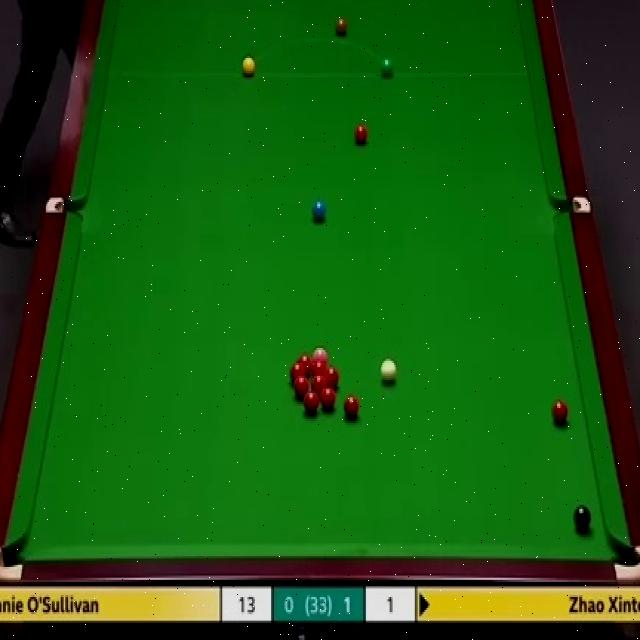black-ball: (573, 504, 591, 531)
blue-ball: (310, 198, 326, 223)
brown-ball: (335, 18, 349, 39)
green-ball: (379, 57, 395, 79)
pink-ball: (313, 347, 328, 359)
red-ball: (318, 385, 335, 411), (352, 124, 370, 148), (298, 356, 314, 378), (344, 396, 359, 419), (552, 402, 567, 425), (304, 386, 318, 408), (324, 367, 339, 387), (290, 365, 304, 385), (295, 380, 310, 398), (312, 374, 326, 389), (313, 358, 325, 375)
white-ball: (379, 359, 398, 386)
yellow-ball: (242, 56, 256, 76)
